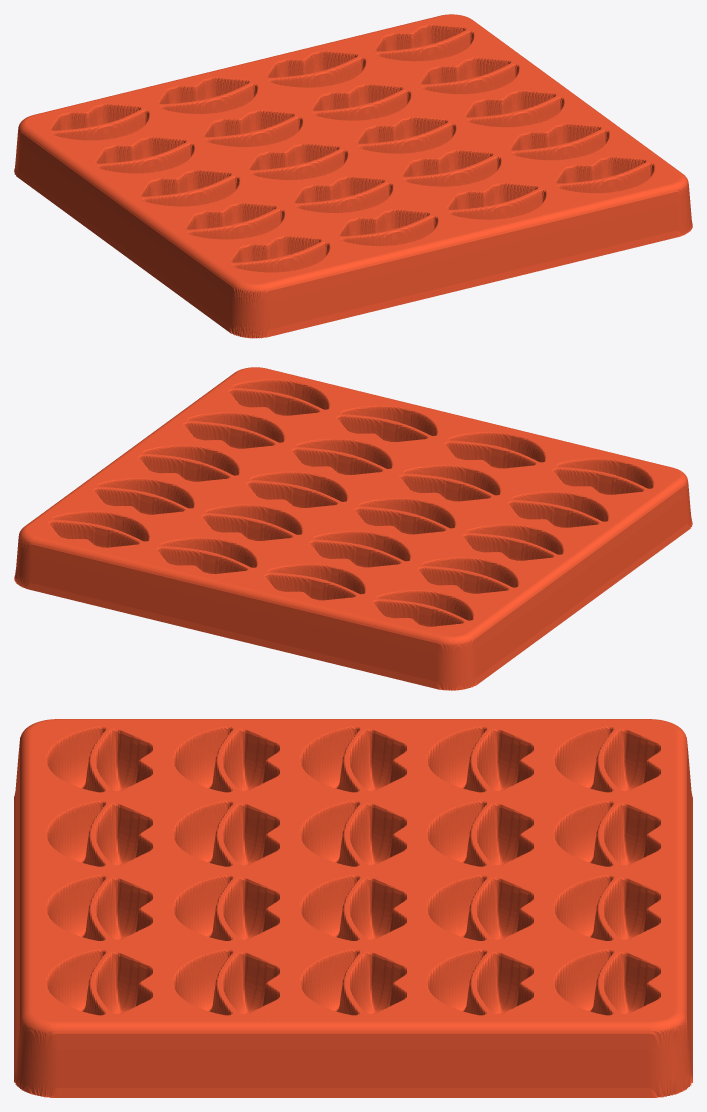
The model's file is mold.glb.
The picture shows the model from 3 angles, top to bottom: view 1: azimuth 30°, elevation 25°; view 2: azimuth 150°, elevation 25°; view 3: azimuth 270°, elevation 25°; orthographic projection. The views are drawn at different scales.
Visible parts, largest first — view 1: geometry_0; view 2: geometry_0; view 3: geometry_0.
Part boxes in pixels (x1,y1,x2,y2): geometry_0: (14, 14, 692, 338); geometry_0: (14, 367, 692, 690); geometry_0: (14, 719, 692, 1097).
Size of the model in its own units: 0.1563 by 0.0159 by 0.1419.
